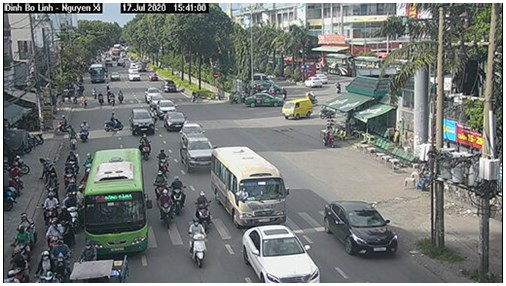xe_buyt: (209, 149, 285, 226), (87, 63, 108, 84)
xe_hoi: (235, 225, 321, 284), (322, 202, 397, 256), (177, 132, 214, 170), (281, 98, 315, 121), (128, 107, 156, 134), (164, 111, 188, 132), (155, 100, 177, 117)
xe_may: (188, 216, 210, 268), (195, 190, 212, 231), (171, 175, 187, 217), (157, 187, 172, 230), (42, 190, 58, 224), (156, 146, 171, 178), (105, 110, 126, 132), (154, 170, 168, 200), (138, 133, 152, 161), (44, 172, 59, 197), (79, 118, 90, 143), (68, 127, 79, 150), (116, 90, 126, 104)
